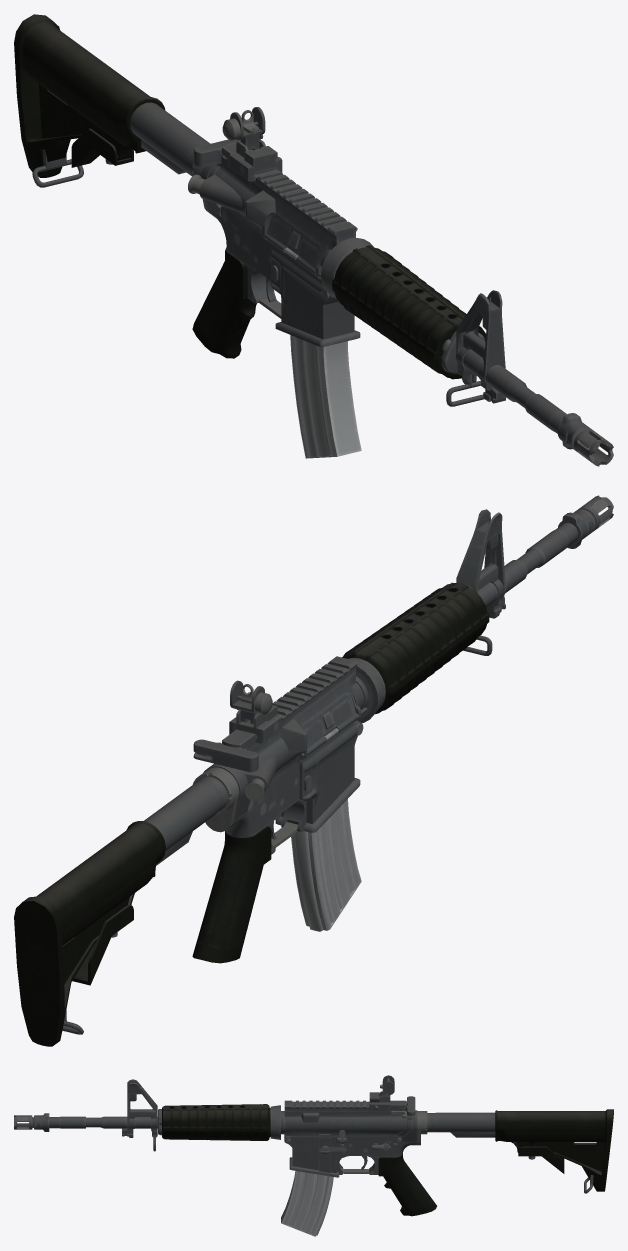
3 views of the same model, one above another, from view 1: azimuth 30°, elevation 25°; view 2: azimuth 150°, elevation 25°; view 3: azimuth 270°, elevation 25° (orthographic). The views are drawn at different scales.
Visible parts, largest first — view 1: SM_AR4; view 2: SM_AR4; view 3: SM_AR4.
Boxes of the visible parts, left/top/right/bottom form: SM_AR4: left=14, top=14, right=613, bottom=466; SM_AR4: left=14, top=495, right=613, bottom=1046; SM_AR4: left=14, top=1075, right=613, bottom=1236.
Bounding box in the file's own units: 6.46 × 26.11 × 91.03.
Materials: 1 (1 with a texture image).
